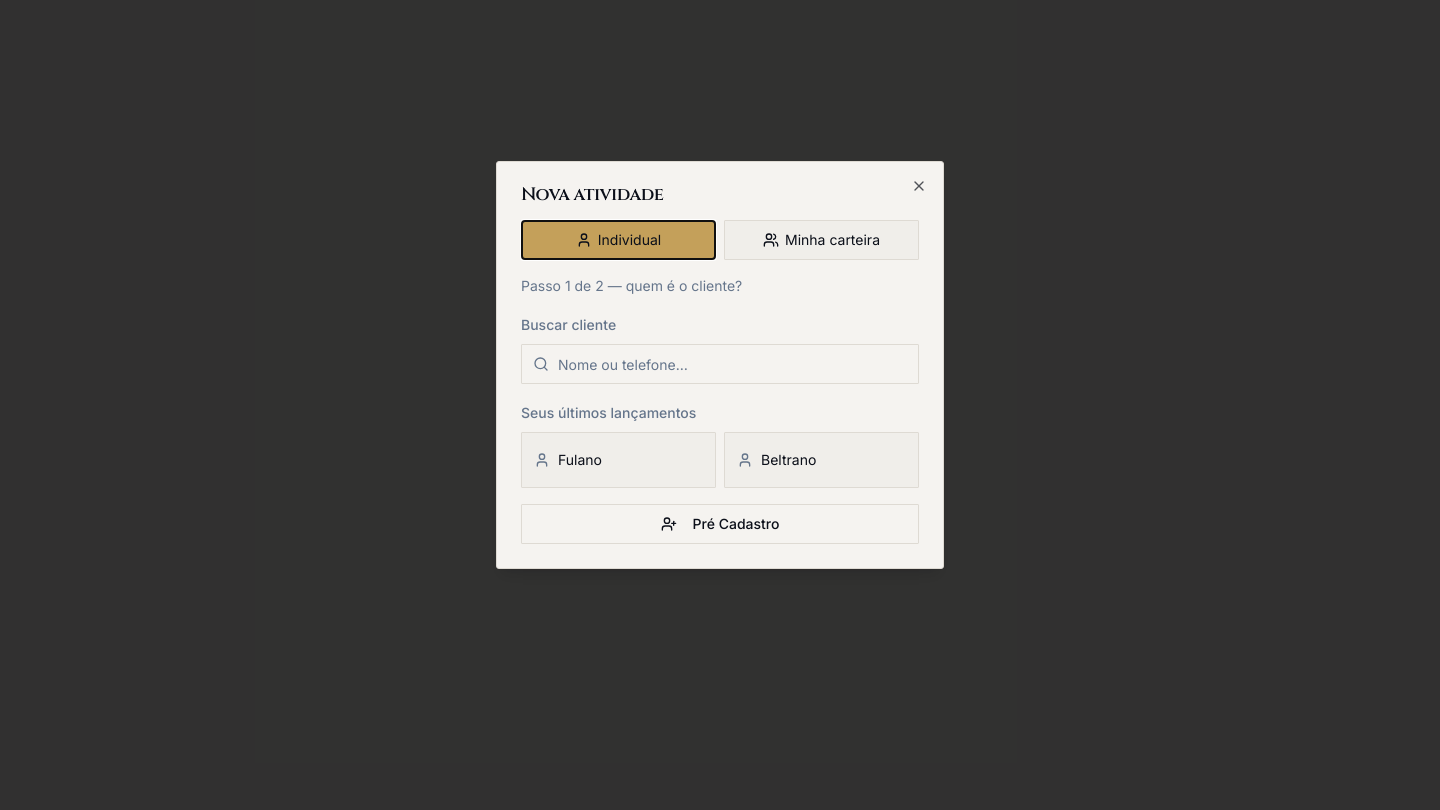
Test: NovaAtividadeDialog — modo Minha carteira › com prévia zerada, o Continuar fica bloqueado
Click the button "Minha carteira" at (822, 240), box [724, 220, 919, 260]
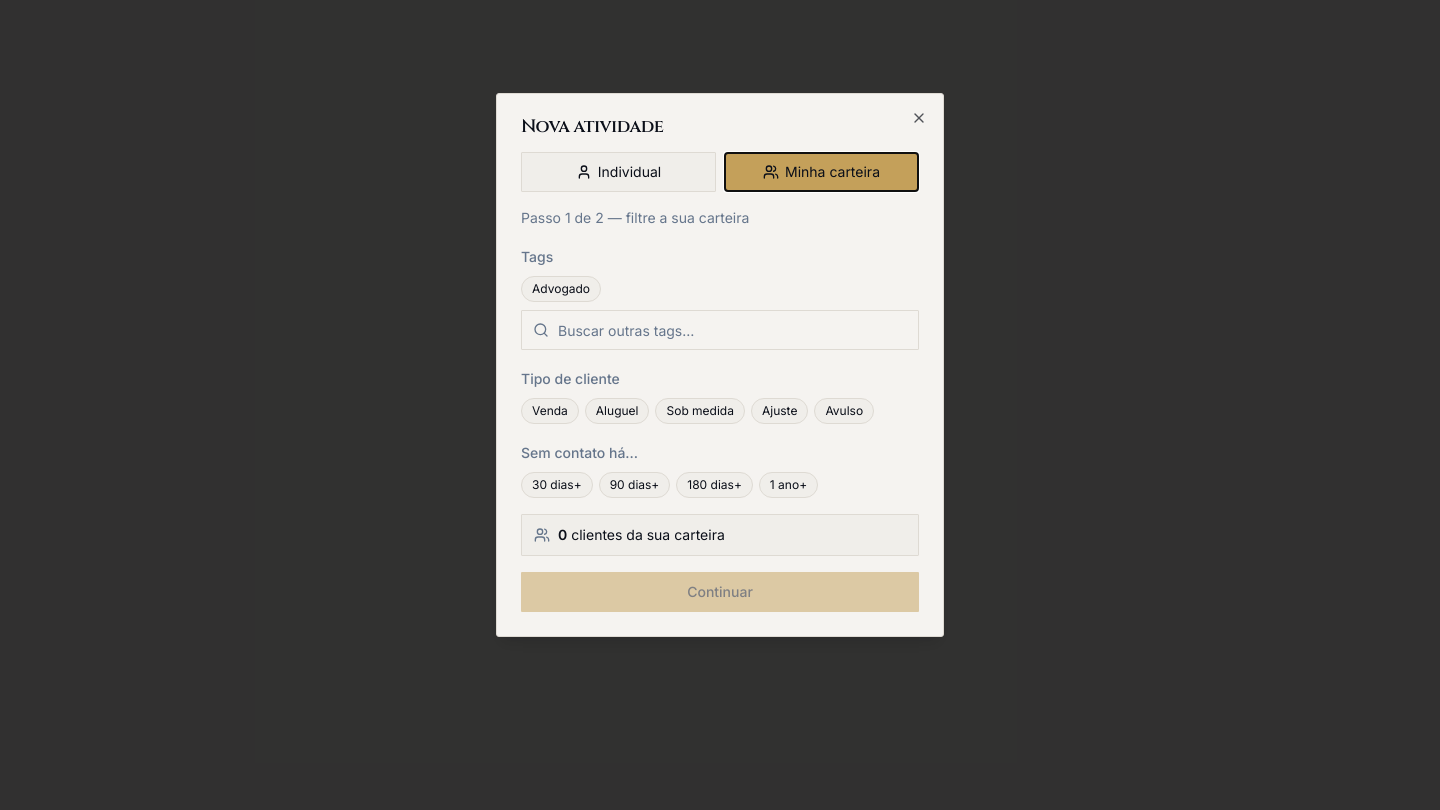
Now the button "Continuar" is disabled, box [521, 572, 919, 612]
